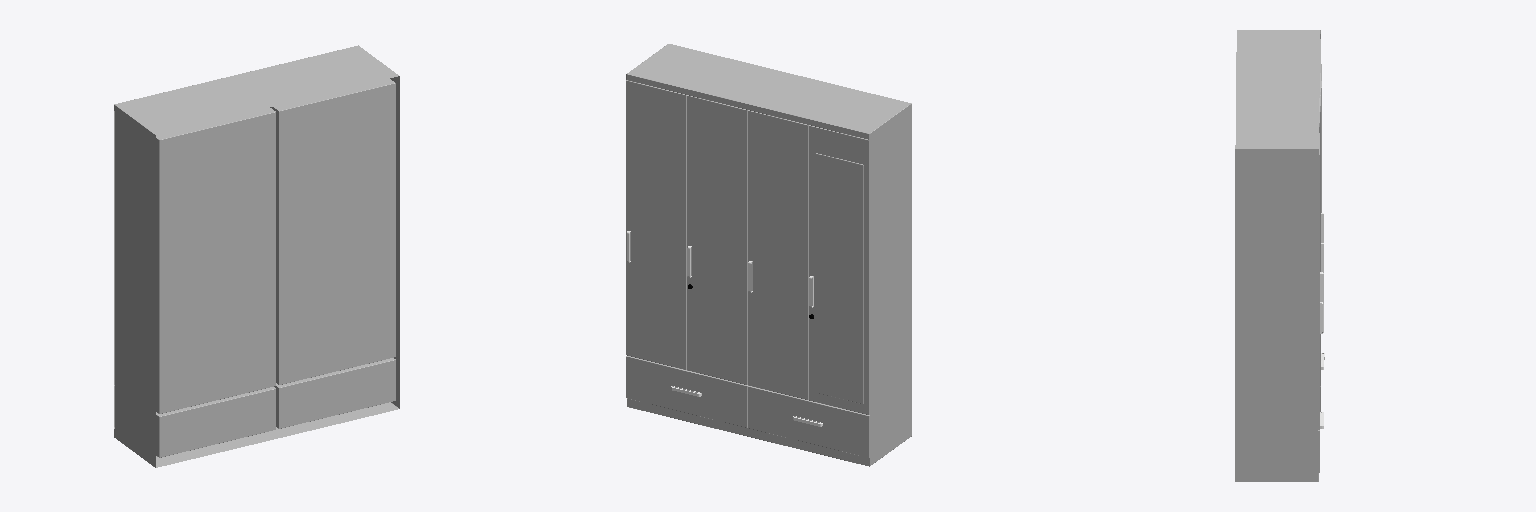
The model's file is wardrobe.obj.
3 views of the same model, side by side, from view 1: azimuth 30°, elevation 25°; view 2: azimuth 150°, elevation 25°; view 3: azimuth 270°, elevation 25° (orthographic).
Visible parts, largest first — view 1: back_wardrobe_Plane.009; view 2: white_finishing_Plane.010, back_wardrobe_Plane.009, mirror_Plane.011, door_opener_Plane.012; view 3: back_wardrobe_Plane.009, white_finishing_Plane.010, door_opener_Plane.012.
Part boxes in pixels (left/top/right/bottom): back_wardrobe_Plane.009: left=114, top=45, right=399, bottom=467; white_finishing_Plane.010: left=626, top=80, right=869, bottom=457; back_wardrobe_Plane.009: left=626, top=44, right=911, bottom=466; mirror_Plane.011: left=816, top=153, right=863, bottom=403; door_opener_Plane.012: left=627, top=231, right=822, bottom=426; back_wardrobe_Plane.009: left=1235, top=30, right=1320, bottom=481; white_finishing_Plane.010: left=1318, top=39, right=1320, bottom=472; door_opener_Plane.012: left=1320, top=213, right=1324, bottom=428.
Size of the model in its own units: 2 by 2.61 by 0.6325.